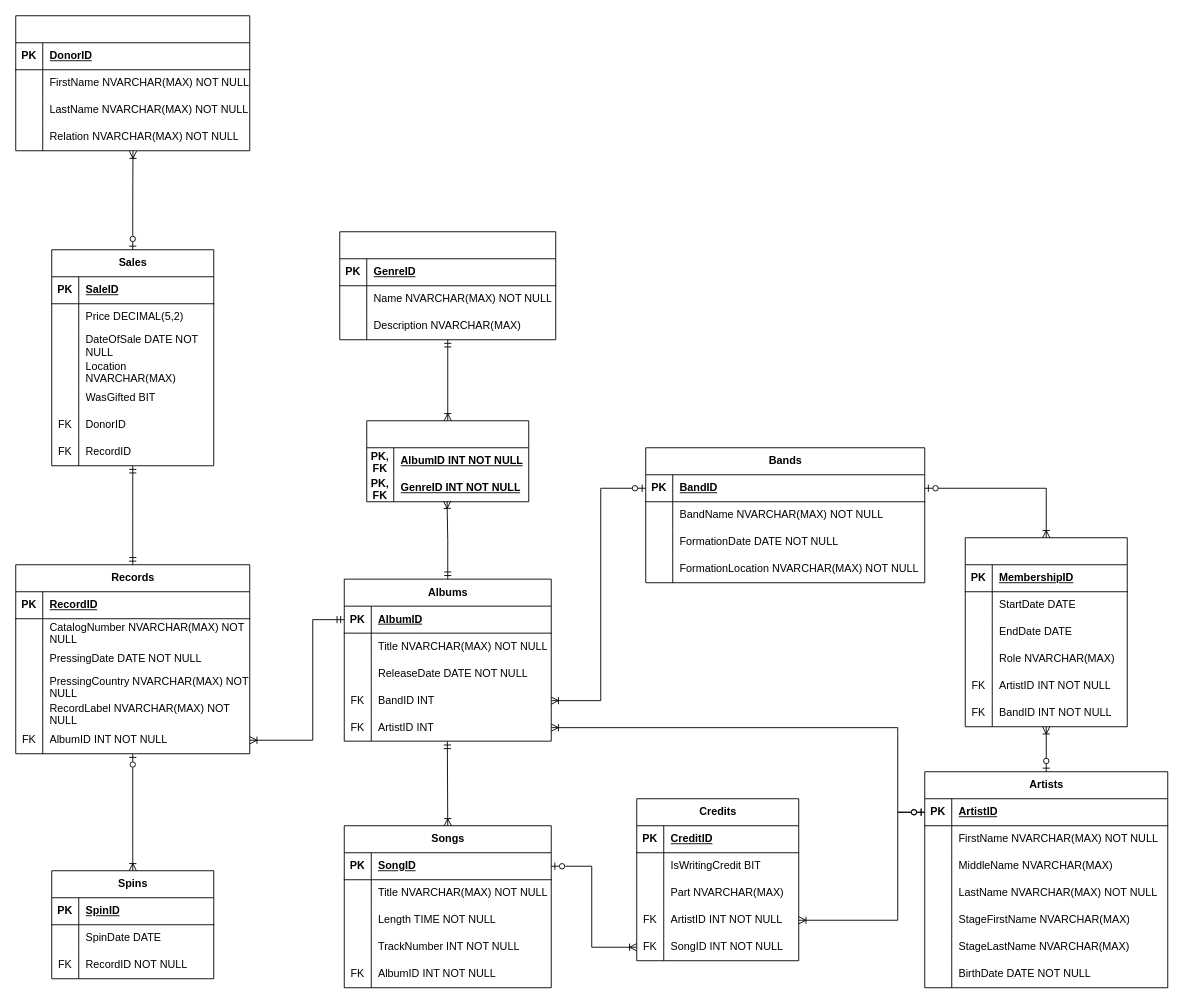
Some shapes in this 1184 by 1004 pixel diagram are drawn without their labels. Each missing label, with the box of its shape:
AlbumGenres: (366, 420, 529, 502)
Donors: (15, 15, 250, 151)
Genres: (339, 231, 556, 340)
Memberships: (964, 537, 1127, 727)
